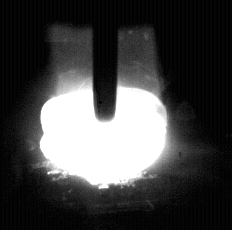arame: (94, 0, 117, 121)
poca: (42, 0, 167, 230)
